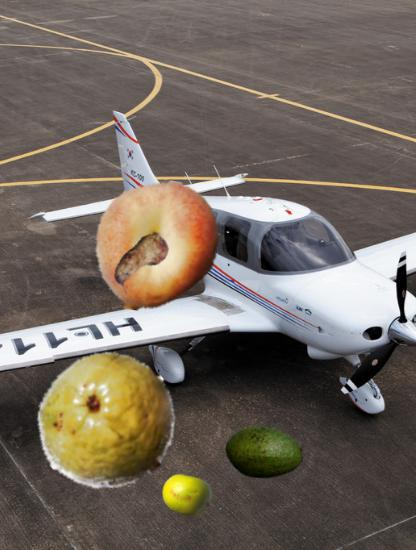Avocado: (225, 414, 304, 493)
Guava: (36, 352, 179, 495)
Peach: (90, 179, 224, 313)
Pear: (110, 231, 174, 295)
Pomelo: (161, 469, 213, 521)
